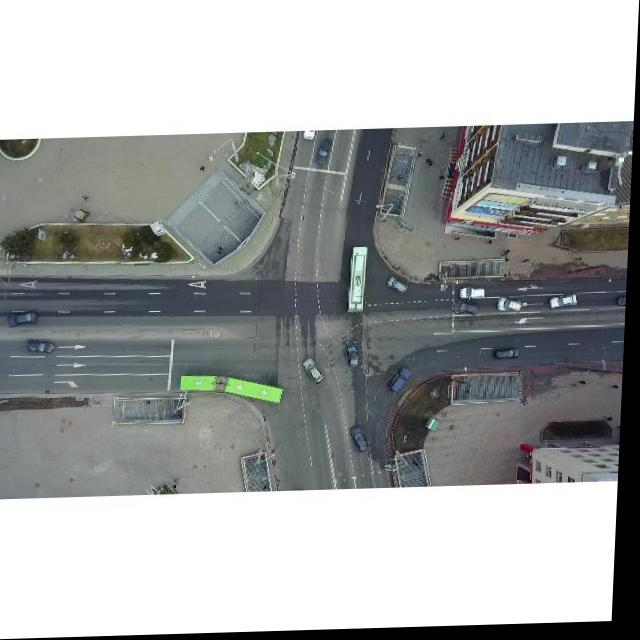vehicle: (306, 359, 330, 388), (390, 370, 414, 396), (354, 426, 374, 456), (316, 139, 333, 168), (10, 312, 42, 327), (455, 303, 483, 319), (552, 297, 581, 312), (500, 300, 526, 316), (388, 279, 412, 296), (28, 340, 57, 354), (349, 343, 364, 370), (463, 290, 488, 303), (497, 351, 524, 362)
